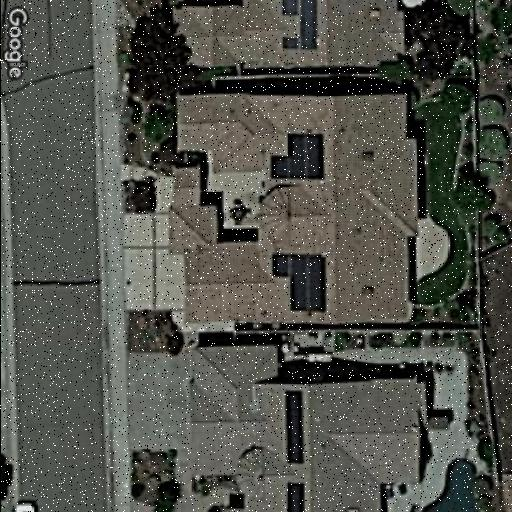solar-panel: (268, 250, 330, 315), (266, 130, 326, 182), (276, 0, 325, 53), (278, 388, 308, 466), (281, 480, 309, 511)
